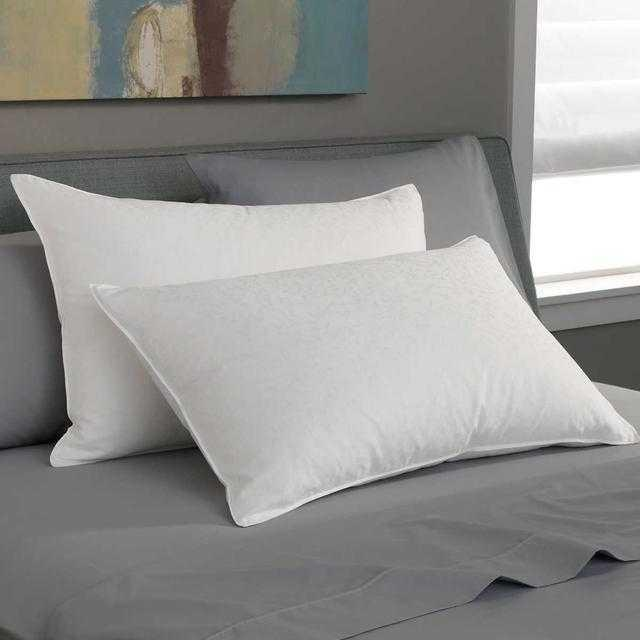pillow: (88, 233, 640, 527), (8, 172, 428, 468)
